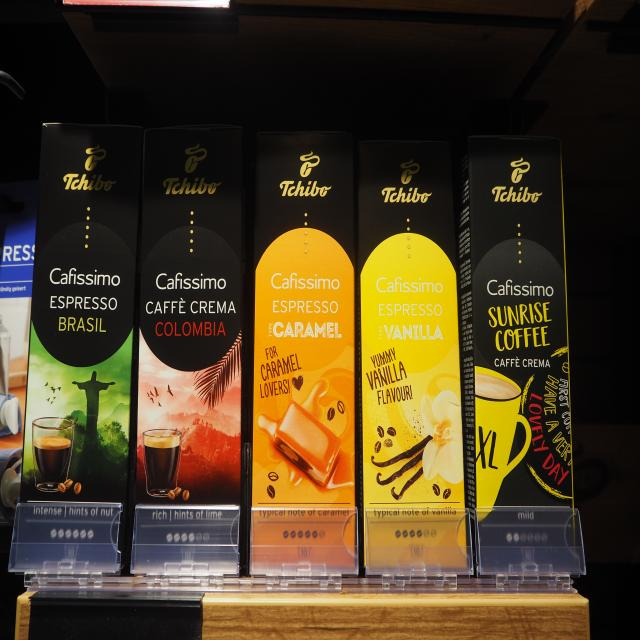Simo CC Colombia: (128, 122, 252, 570)
Simo Es Brazil: (13, 119, 145, 579)
Simo Es Caramel: (245, 131, 357, 573)
Simo Es Vanilla: (358, 136, 470, 581)
Simo Sunrise: (464, 135, 579, 583)
